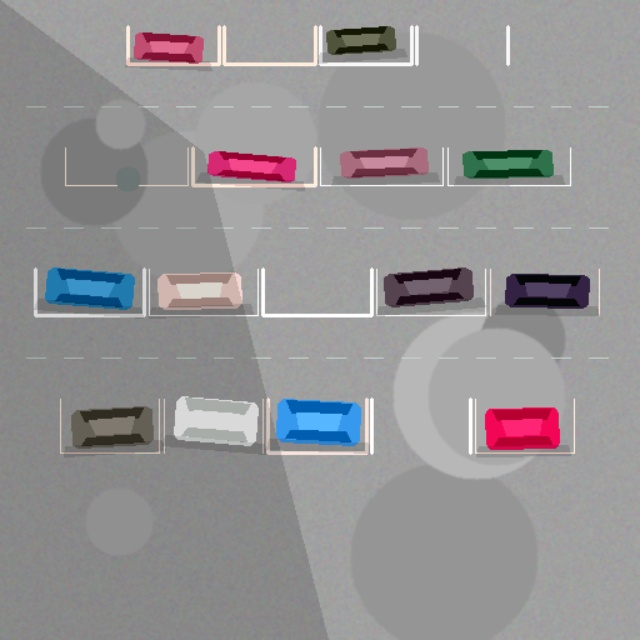space-empty: (371, 399, 470, 452), (262, 269, 371, 315), (65, 148, 188, 185), (416, 26, 508, 64), (224, 26, 315, 64)
space-occupied: (60, 399, 159, 452), (164, 399, 263, 452), (267, 399, 366, 452), (475, 399, 574, 452), (35, 269, 144, 315), (149, 269, 258, 315), (376, 269, 485, 315), (490, 269, 599, 315), (192, 148, 315, 185), (320, 148, 442, 185), (448, 148, 570, 185), (128, 26, 219, 64), (320, 26, 411, 64)
